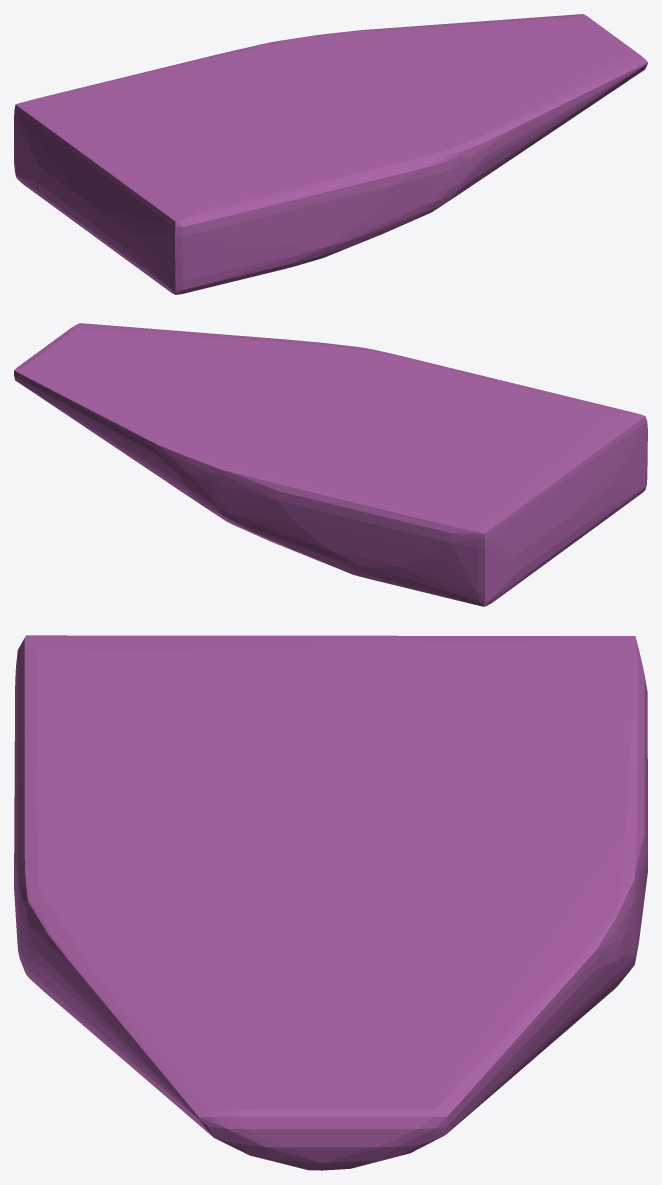
File: left-tarsus-0_part_7.obj
3 renders of one model, top to bottom at view 1: azimuth 30°, elevation 25°; view 2: azimuth 150°, elevation 25°; view 3: azimuth 270°, elevation 25°, orthographic. The views are drawn at different scales.
Bounding box in the file's own units: 0.1145 × 0.0159 × 0.0628.
